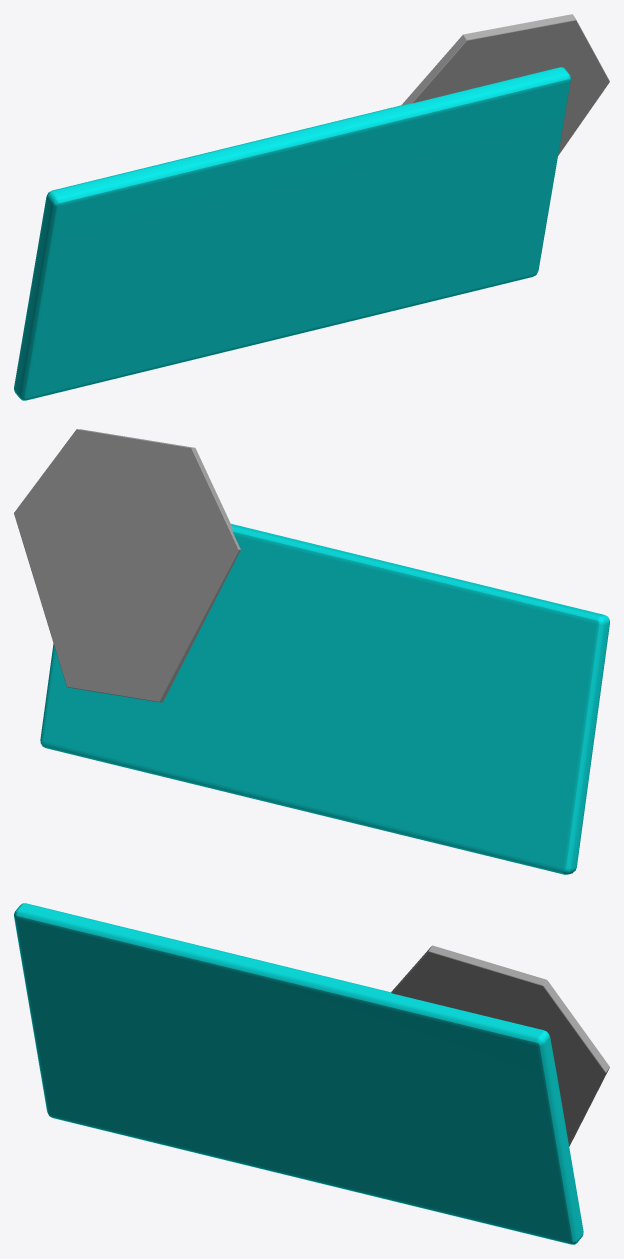
File: gameSign_CasketBaskets2.fbx
3 renders of one model, top to bottom at view 1: azimuth 30°, elevation 25°; view 2: azimuth 150°, elevation 25°; view 3: azimuth 330°, elevation 25°, orthographic. The views are drawn at different scales.
Visible parts, largest first — view 1: gameSign_CasketBaskets2, gameSign_CasketBaskets; view 2: gameSign_CasketBaskets2, gameSign_CasketBaskets; view 3: gameSign_CasketBaskets2, gameSign_CasketBaskets.
Boxes of the visible parts, box(x1,y1,x2,y2) form: gameSign_CasketBaskets2: box(14, 67, 570, 400); gameSign_CasketBaskets: box(401, 14, 609, 155); gameSign_CasketBaskets2: box(40, 524, 609, 874); gameSign_CasketBaskets: box(14, 429, 240, 702); gameSign_CasketBaskets2: box(14, 903, 583, 1244); gameSign_CasketBaskets: box(391, 945, 609, 1146).
Bounding box in the file's own units: 755 × 371 × 104.
